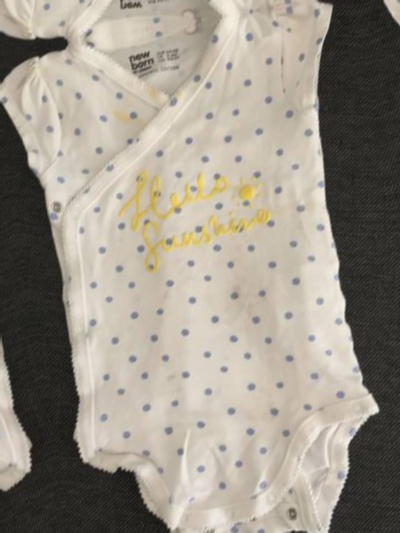Body: (0, 2, 400, 533), (0, 60, 75, 533), (0, 0, 331, 51), (381, 0, 400, 515), (77, 532, 400, 533)
